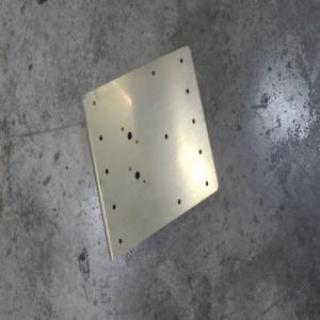MetalSheettrack_idkeyframe: (78, 40, 219, 262)
